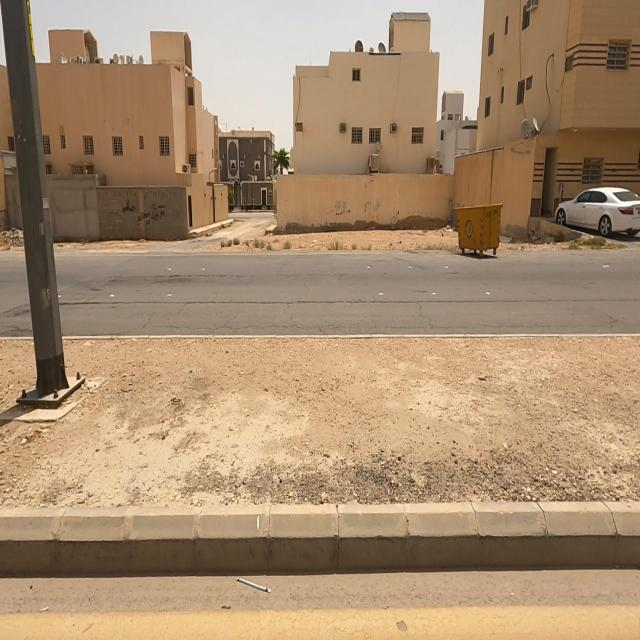Graffiti: (122, 202, 168, 228), (336, 201, 353, 218), (365, 201, 382, 212)
